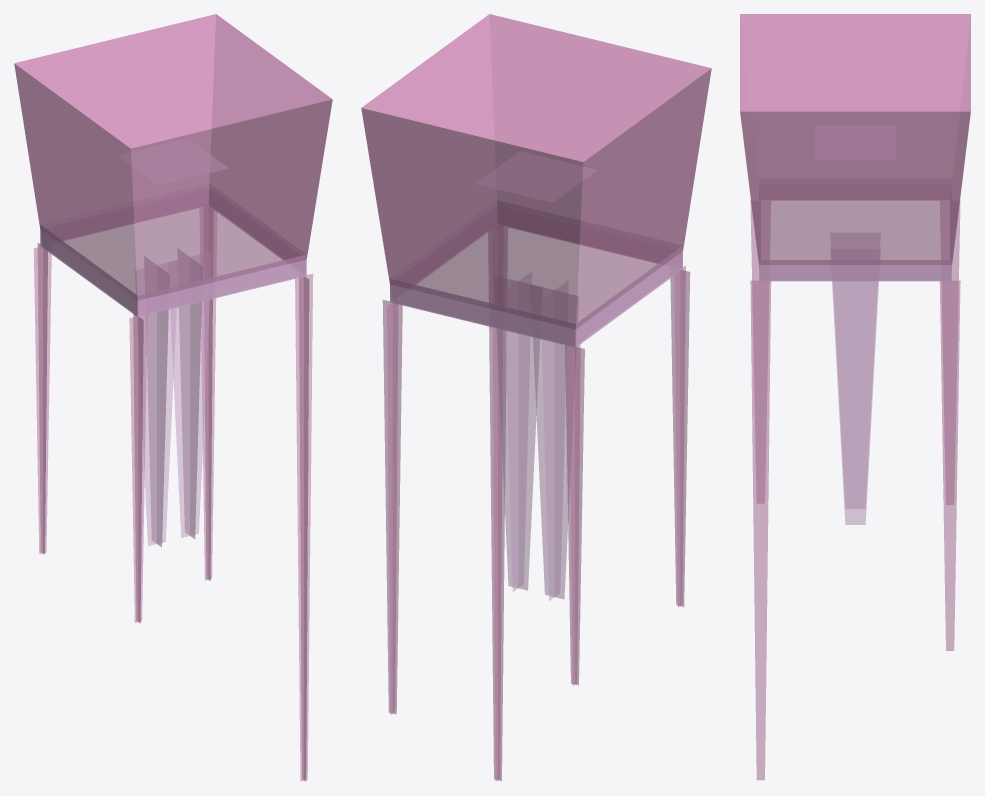
File: jellyfish.obj
3 renders of one model, left to right at view 1: azimuth 30°, elevation 25°; view 2: azimuth 150°, elevation 25°; view 3: azimuth 270°, elevation 25°, orthographic. The views are drawn at different scales.
Parts seen in each view (by area): view 1: bell_sides, bell_top, arm_5, arm_4, rim_band, thread_2, thread_1, thread_3, thread_0, heart; view 2: bell_sides, bell_top, arm_5, arm_4, rim_band, thread_2, thread_1, thread_0, thread_3, heart; view 3: bell_sides, bell_top, arm_5, arm_4, thread_2, thread_1, rim_band, thread_0, thread_3, heart.
Boxes of the visible parts, left/top/right/bottom form: bell_sides: left=14, top=14, right=332, bottom=300; bell_top: left=14, top=14, right=332, bottom=148; arm_5: left=169, top=249, right=211, bottom=538; arm_4: left=135, top=256, right=178, bottom=547; rim_band: left=40, top=183, right=306, bottom=316; thread_2: left=295, top=273, right=313, bottom=781; thread_1: left=200, top=206, right=216, bottom=580; thread_3: left=129, top=314, right=147, bottom=623; thread_0: left=33, top=243, right=51, bottom=554; heart: left=119, top=139, right=227, bottom=184; bell_sides: left=361, top=14, right=711, bottom=329; bell_top: left=361, top=14, right=711, bottom=161; arm_5: left=494, top=272, right=541, bottom=591; arm_4: left=531, top=281, right=578, bottom=600; rim_band: left=390, top=200, right=682, bottom=347; thread_2: left=488, top=225, right=507, bottom=781; thread_1: left=382, top=300, right=402, bottom=714; thread_0: left=565, top=344, right=584, bottom=685; thread_3: left=670, top=265, right=690, bottom=607; heart: left=476, top=151, right=596, bottom=202; bell_sides: left=740, top=14, right=970, bottom=274; bell_top: left=740, top=14, right=970, bottom=111; arm_5: left=830, top=249, right=880, bottom=524; arm_4: left=830, top=233, right=880, bottom=508; thread_2: left=750, top=280, right=771, bottom=780; thread_1: left=939, top=280, right=960, bottom=650; rim_band: left=759, top=178, right=951, bottom=281; thread_0: left=940, top=201, right=960, bottom=504; thread_3: left=750, top=201, right=770, bottom=503; heart: left=815, top=126, right=895, bottom=159.
Size of the model in its own units: 0.4 by 1.3 by 0.4.
